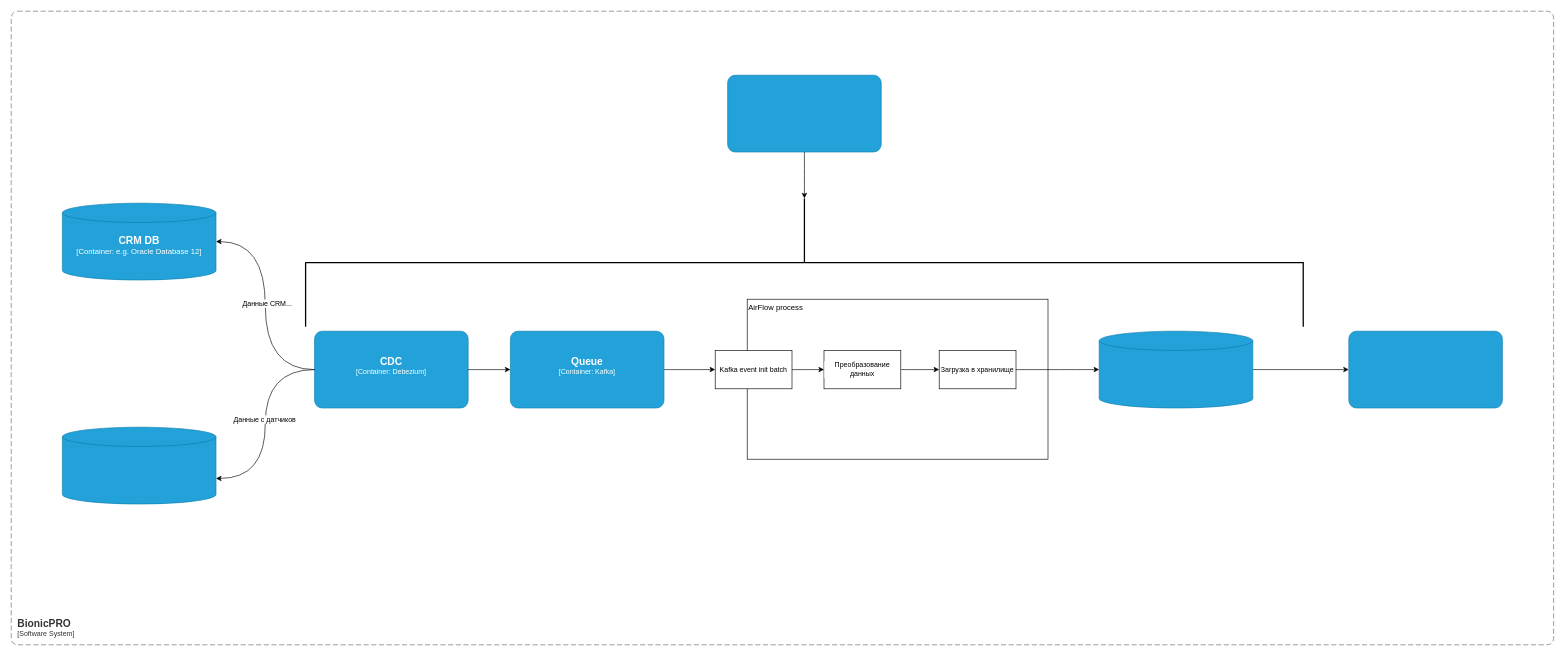
Image size: 1565x656. Some labels were removed from this diagram. The box of each missing label's shape, as (x1, y1, x2, y2) in pixels:
API [Container: e.g. SpringBoot, ElasticSearch, etc.]: (1348, 331, 1502, 408)
Monitoring [Container: Prometheus] Мониторинг ETL процесса: (727, 75, 881, 152)
Warehouse [Container: e.g. Clickhouse]: (1099, 331, 1253, 408)
База данных [Container: PostgreSQL]: (62, 427, 216, 504)
